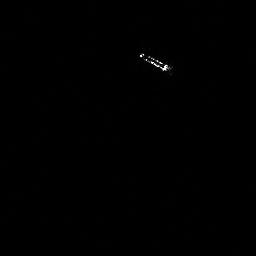ship: (139, 52, 169, 73)
